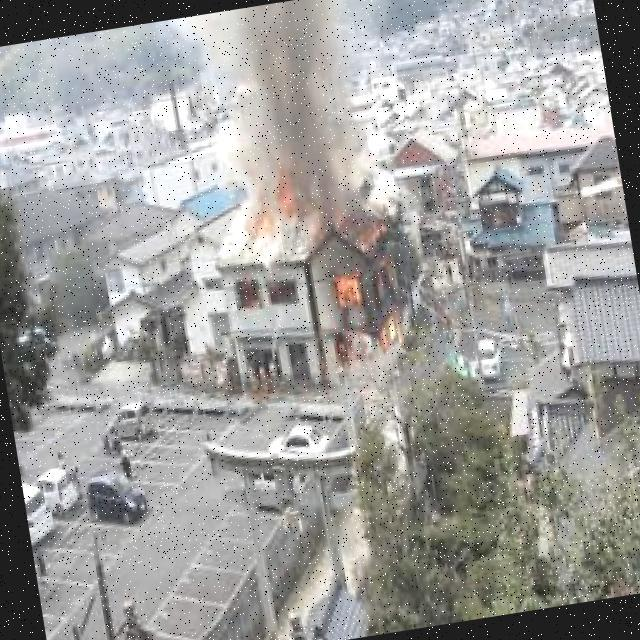Fire: (325, 224, 411, 369)
